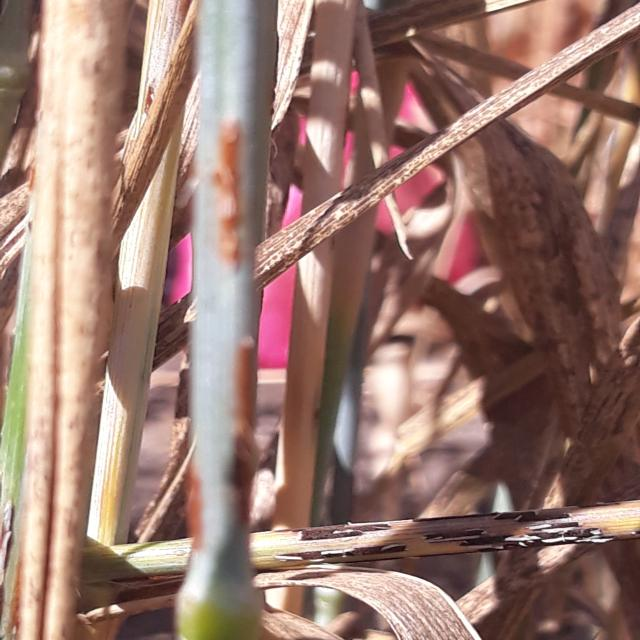black_stem_rust: (4, 0, 356, 640), (364, 0, 632, 640)
